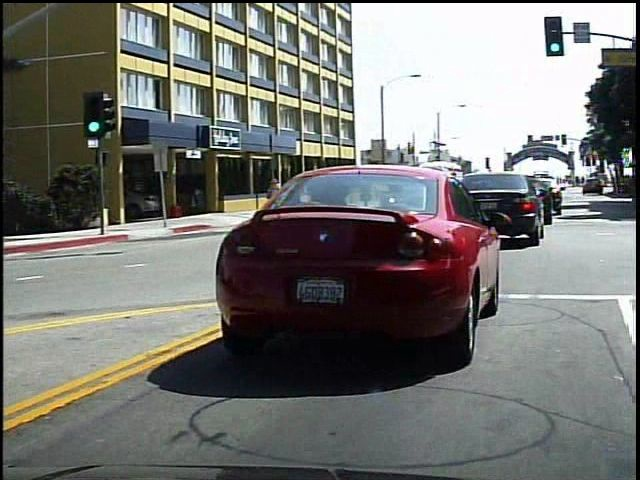person: (261, 175, 282, 210)
